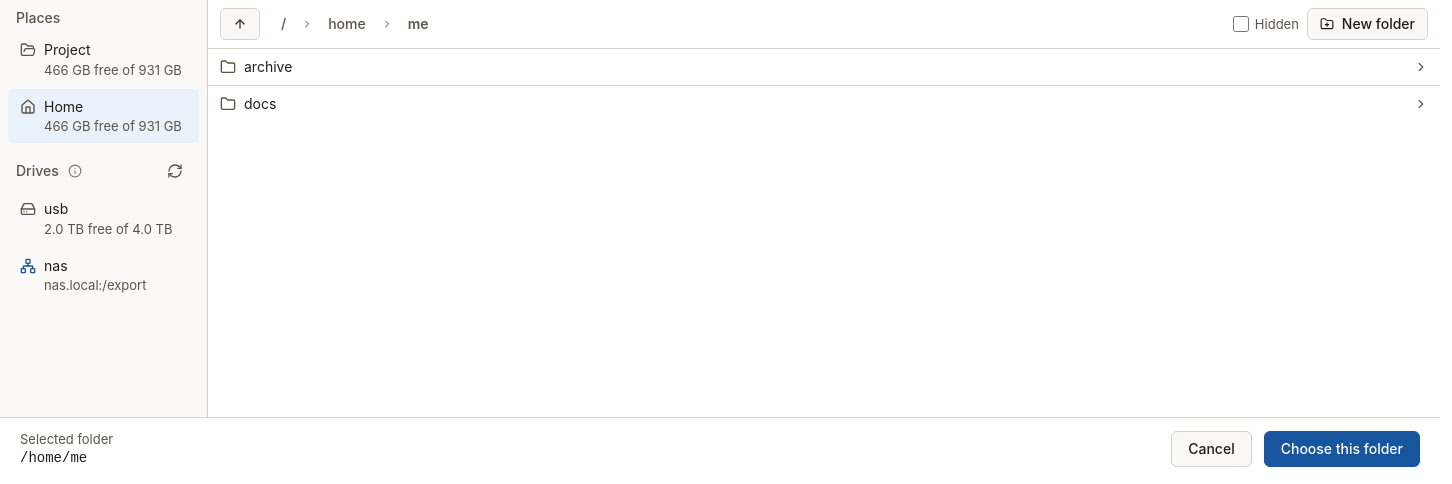
Test: FolderBrowser › rescans drives, so one plugged in meanwhile appears
Expected: the text "archive" is shown, [244,57,292,77]
Step 1. Click the button named "Rescan drives" → (175, 171), box [159,155,191,187]
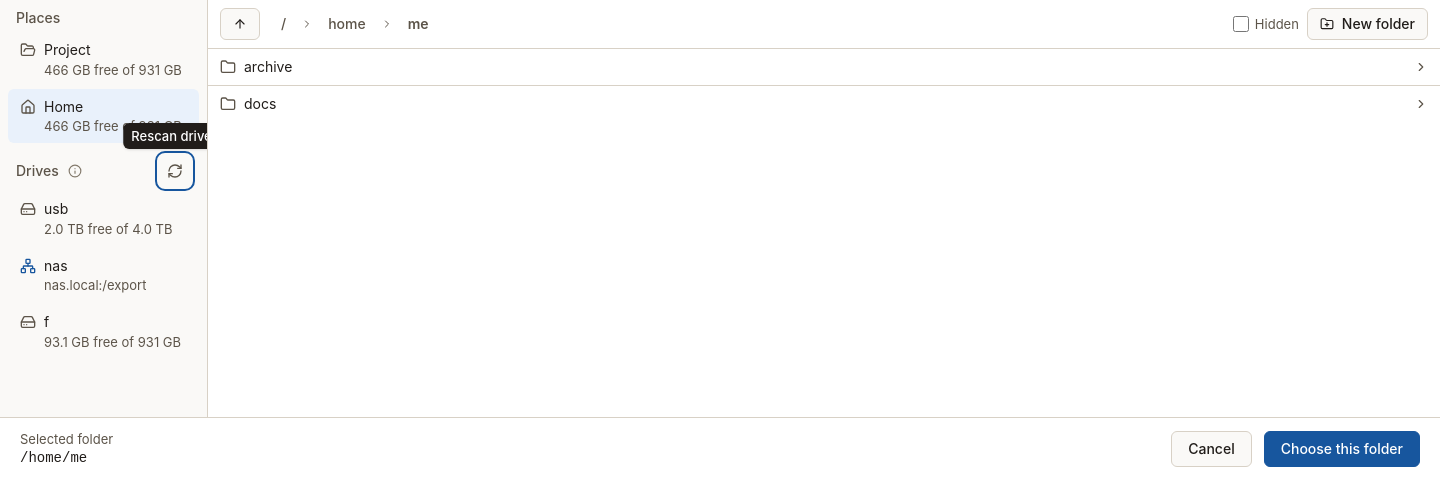
Now the button "f 93.1 GB free of 931 GB" is shown, box [8,304,199,359]
